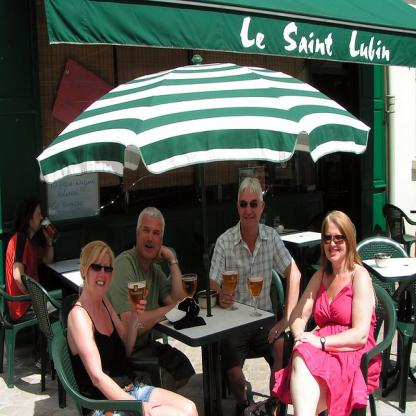drinking: (128, 280, 146, 328), (247, 273, 264, 317), (223, 269, 238, 311), (180, 273, 196, 312), (41, 217, 59, 242)
